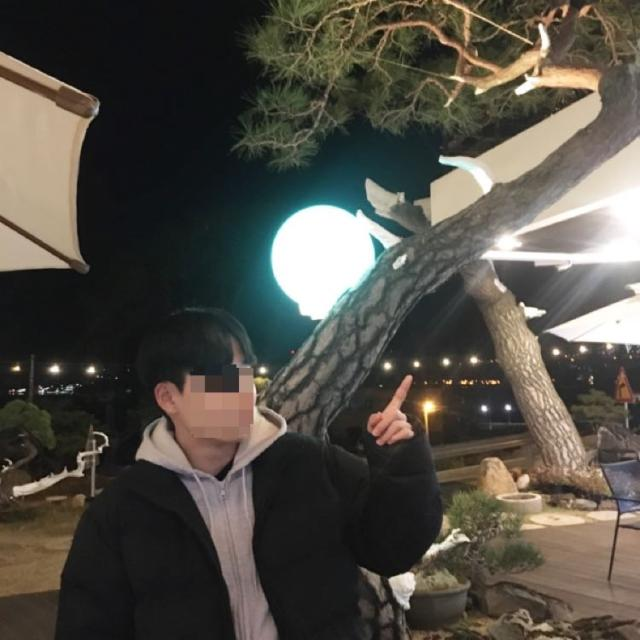padding: (58, 426, 441, 640)
zipup: (138, 405, 284, 640)
